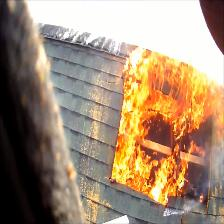fire: (126, 51, 198, 197)
